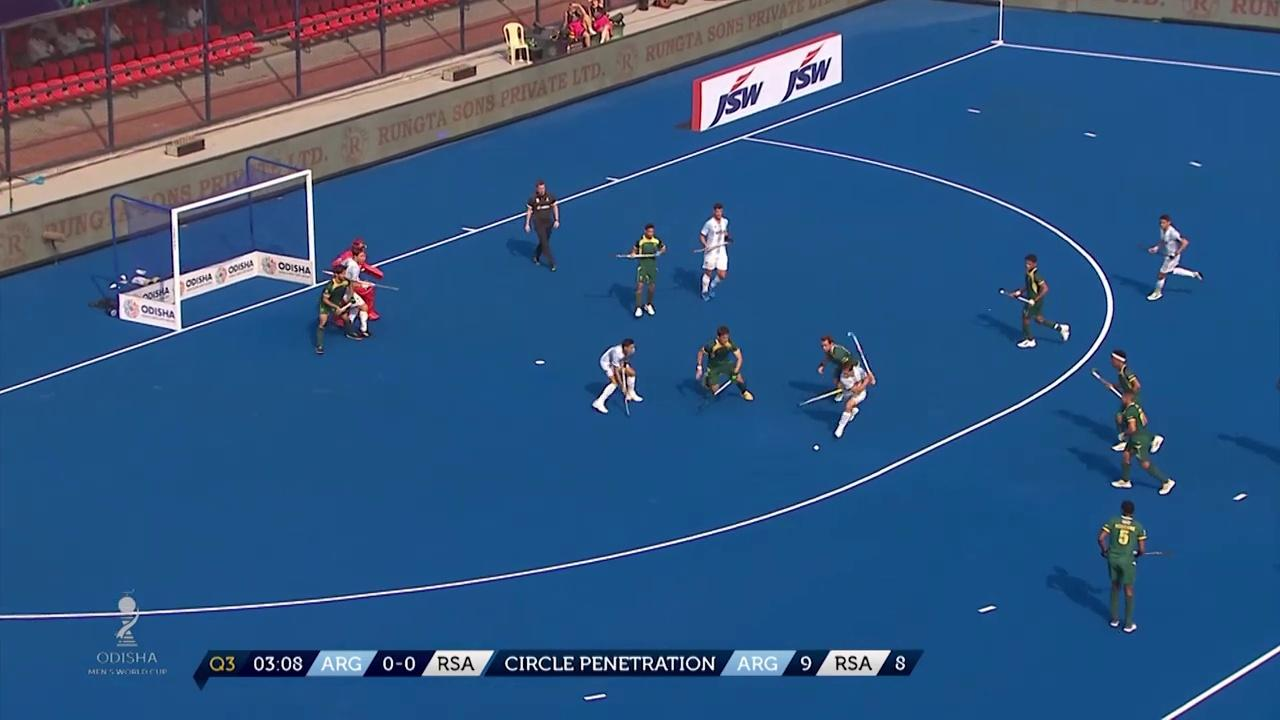ball: (810, 437, 822, 458)
